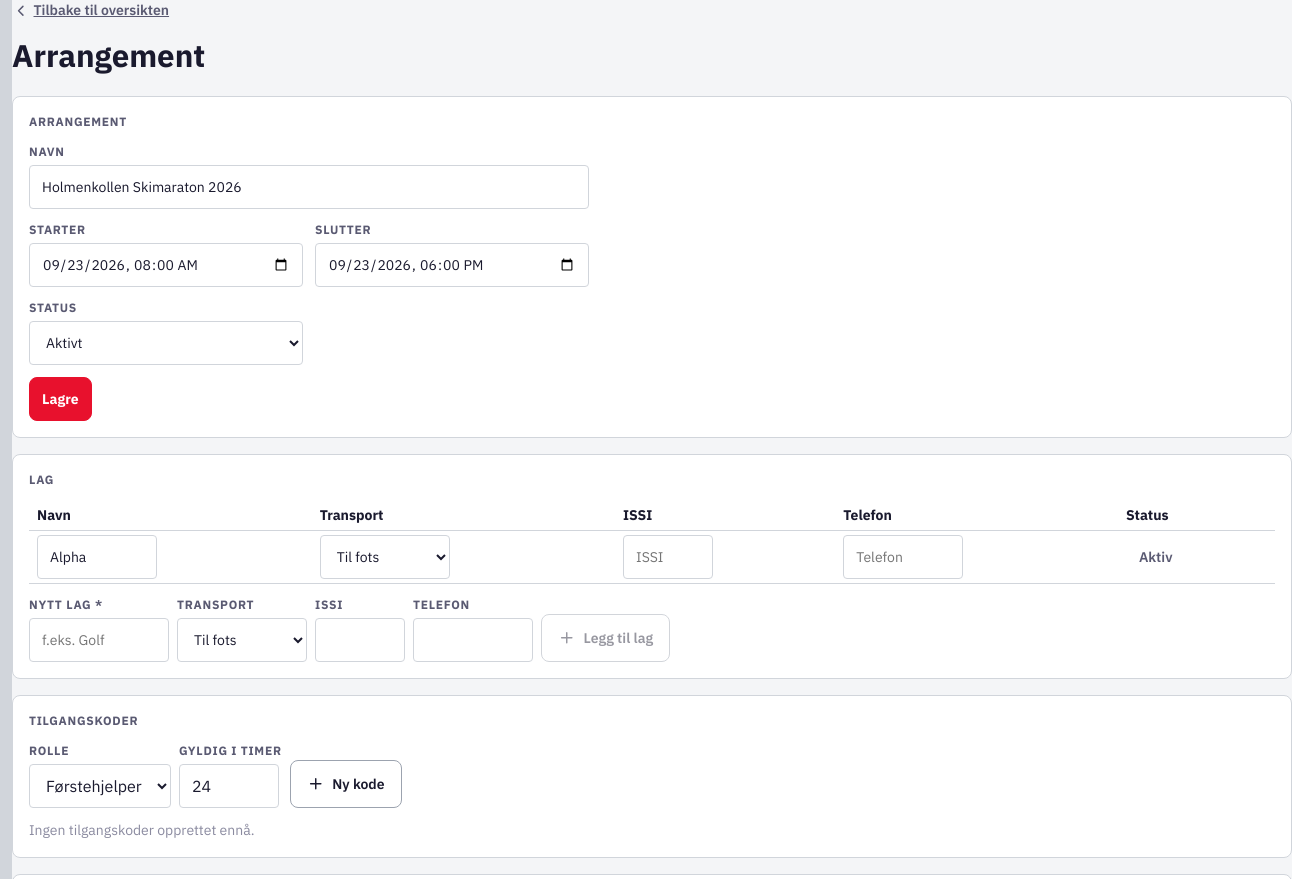
Test case: EventSetupPage › creates an access code through the api and shows it once
expect the field with test id "event-setup-name" is shown: met, box [29,165,589,209]
What coordinates should you click on to do the following:
click the button with test id "event-setup-code-create"
I would click on:
 (346, 784)
Its box is [290,760,402,808].
(page scrolled)
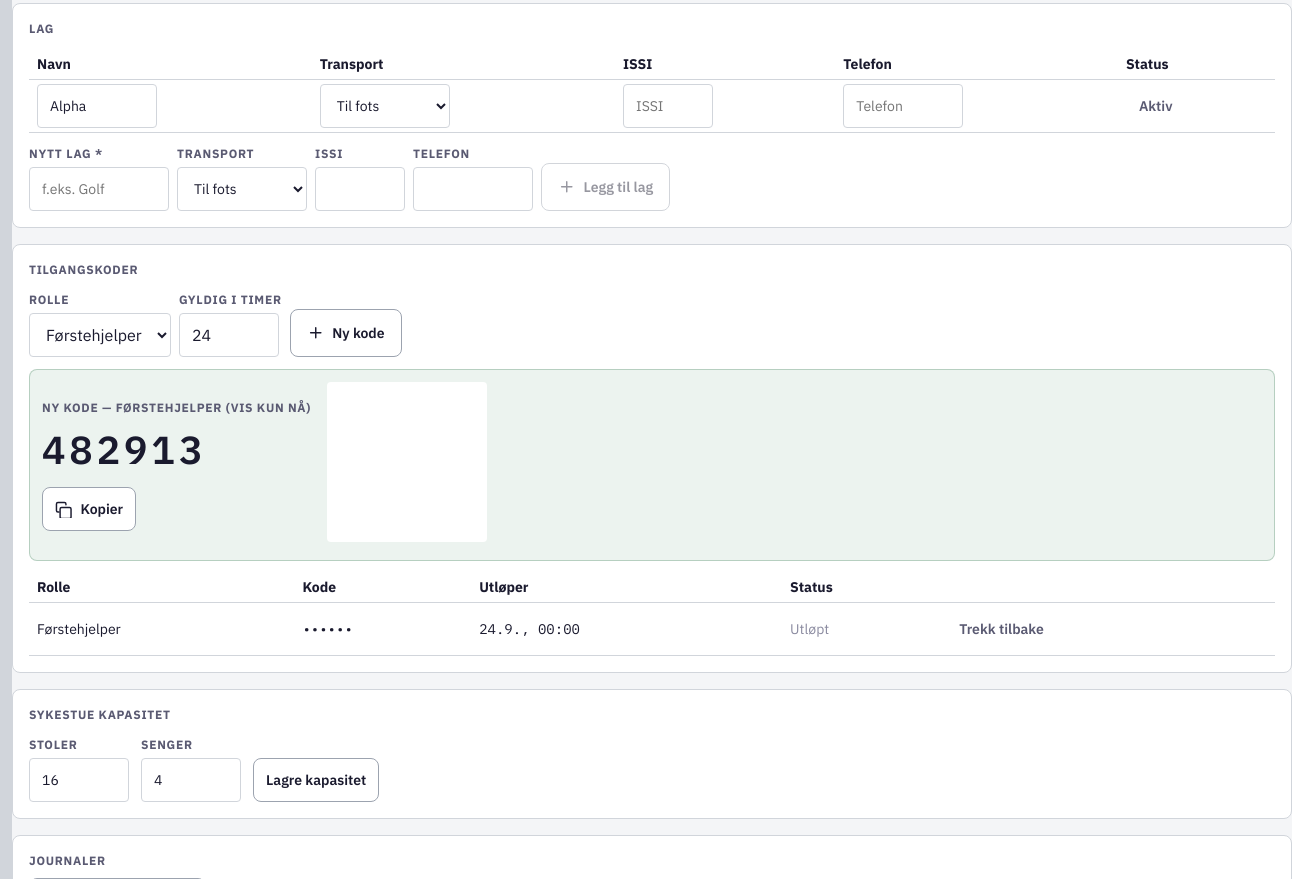
expect the text with test id "event-setup-code-value" reads "482913": met, box [42,424,206,475]
